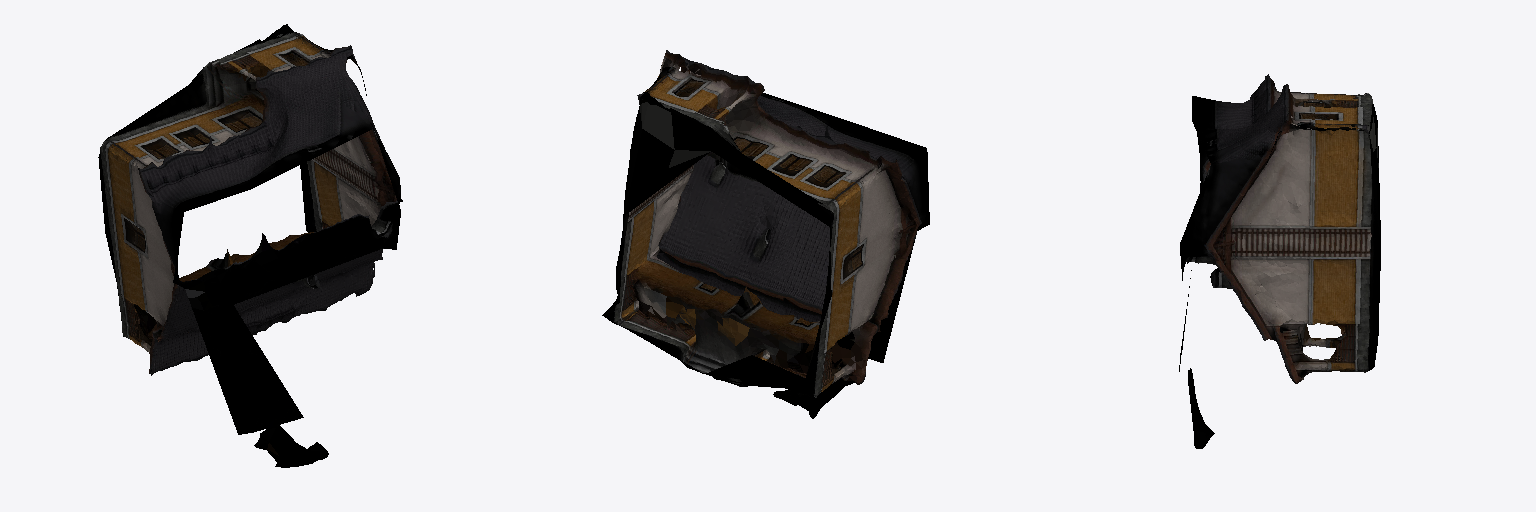
3 renders of one model, left to right at view 1: azimuth 30°, elevation 25°; view 2: azimuth 150°, elevation 25°; view 3: azimuth 270°, elevation 25°, orthographic.
Parts seen in each view (by area): view 1: Group_Global; view 2: Group_Global; view 3: Group_Global.
Part boxes in pixels (x1,y1,x2,y2): Group_Global: (98,24,402,467); Group_Global: (602,50,929,418); Group_Global: (1179,74,1380,448).
Size of the model in its own units: 11.26 by 16.07 by 7.99.
Materials: 1 (1 with a texture image).